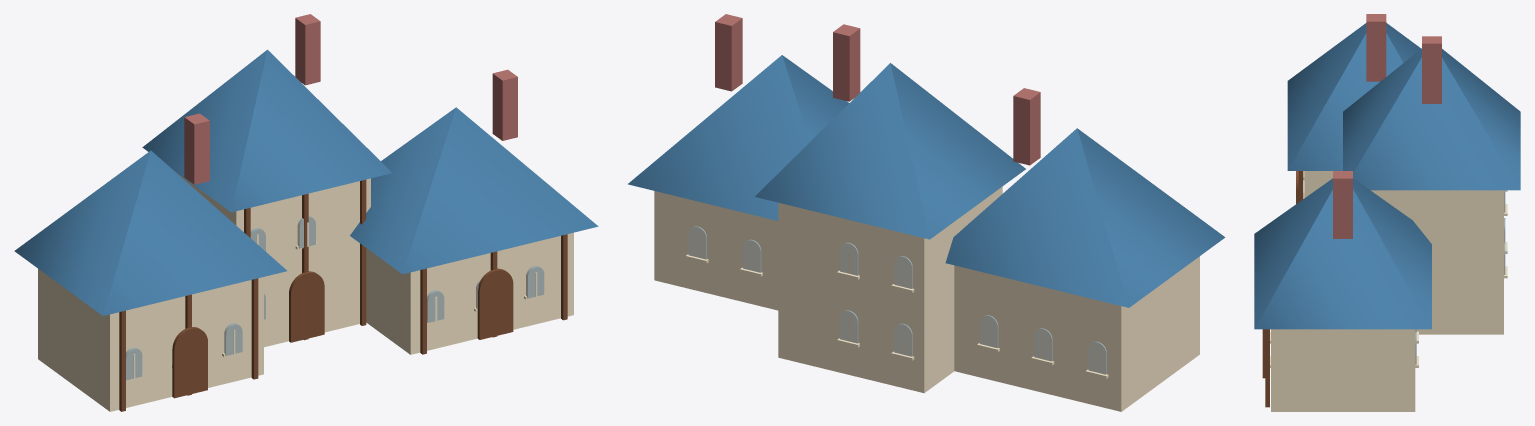
File: village.glb
The picture shows the model from 3 angles, left to right: view 1: azimuth 30°, elevation 25°; view 2: azimuth 150°, elevation 25°; view 3: azimuth 270°, elevation 25°; orthographic projection. The views are drawn at different scales.
Size of the model in its own units: 4.98 by 2.8 by 2.4.
